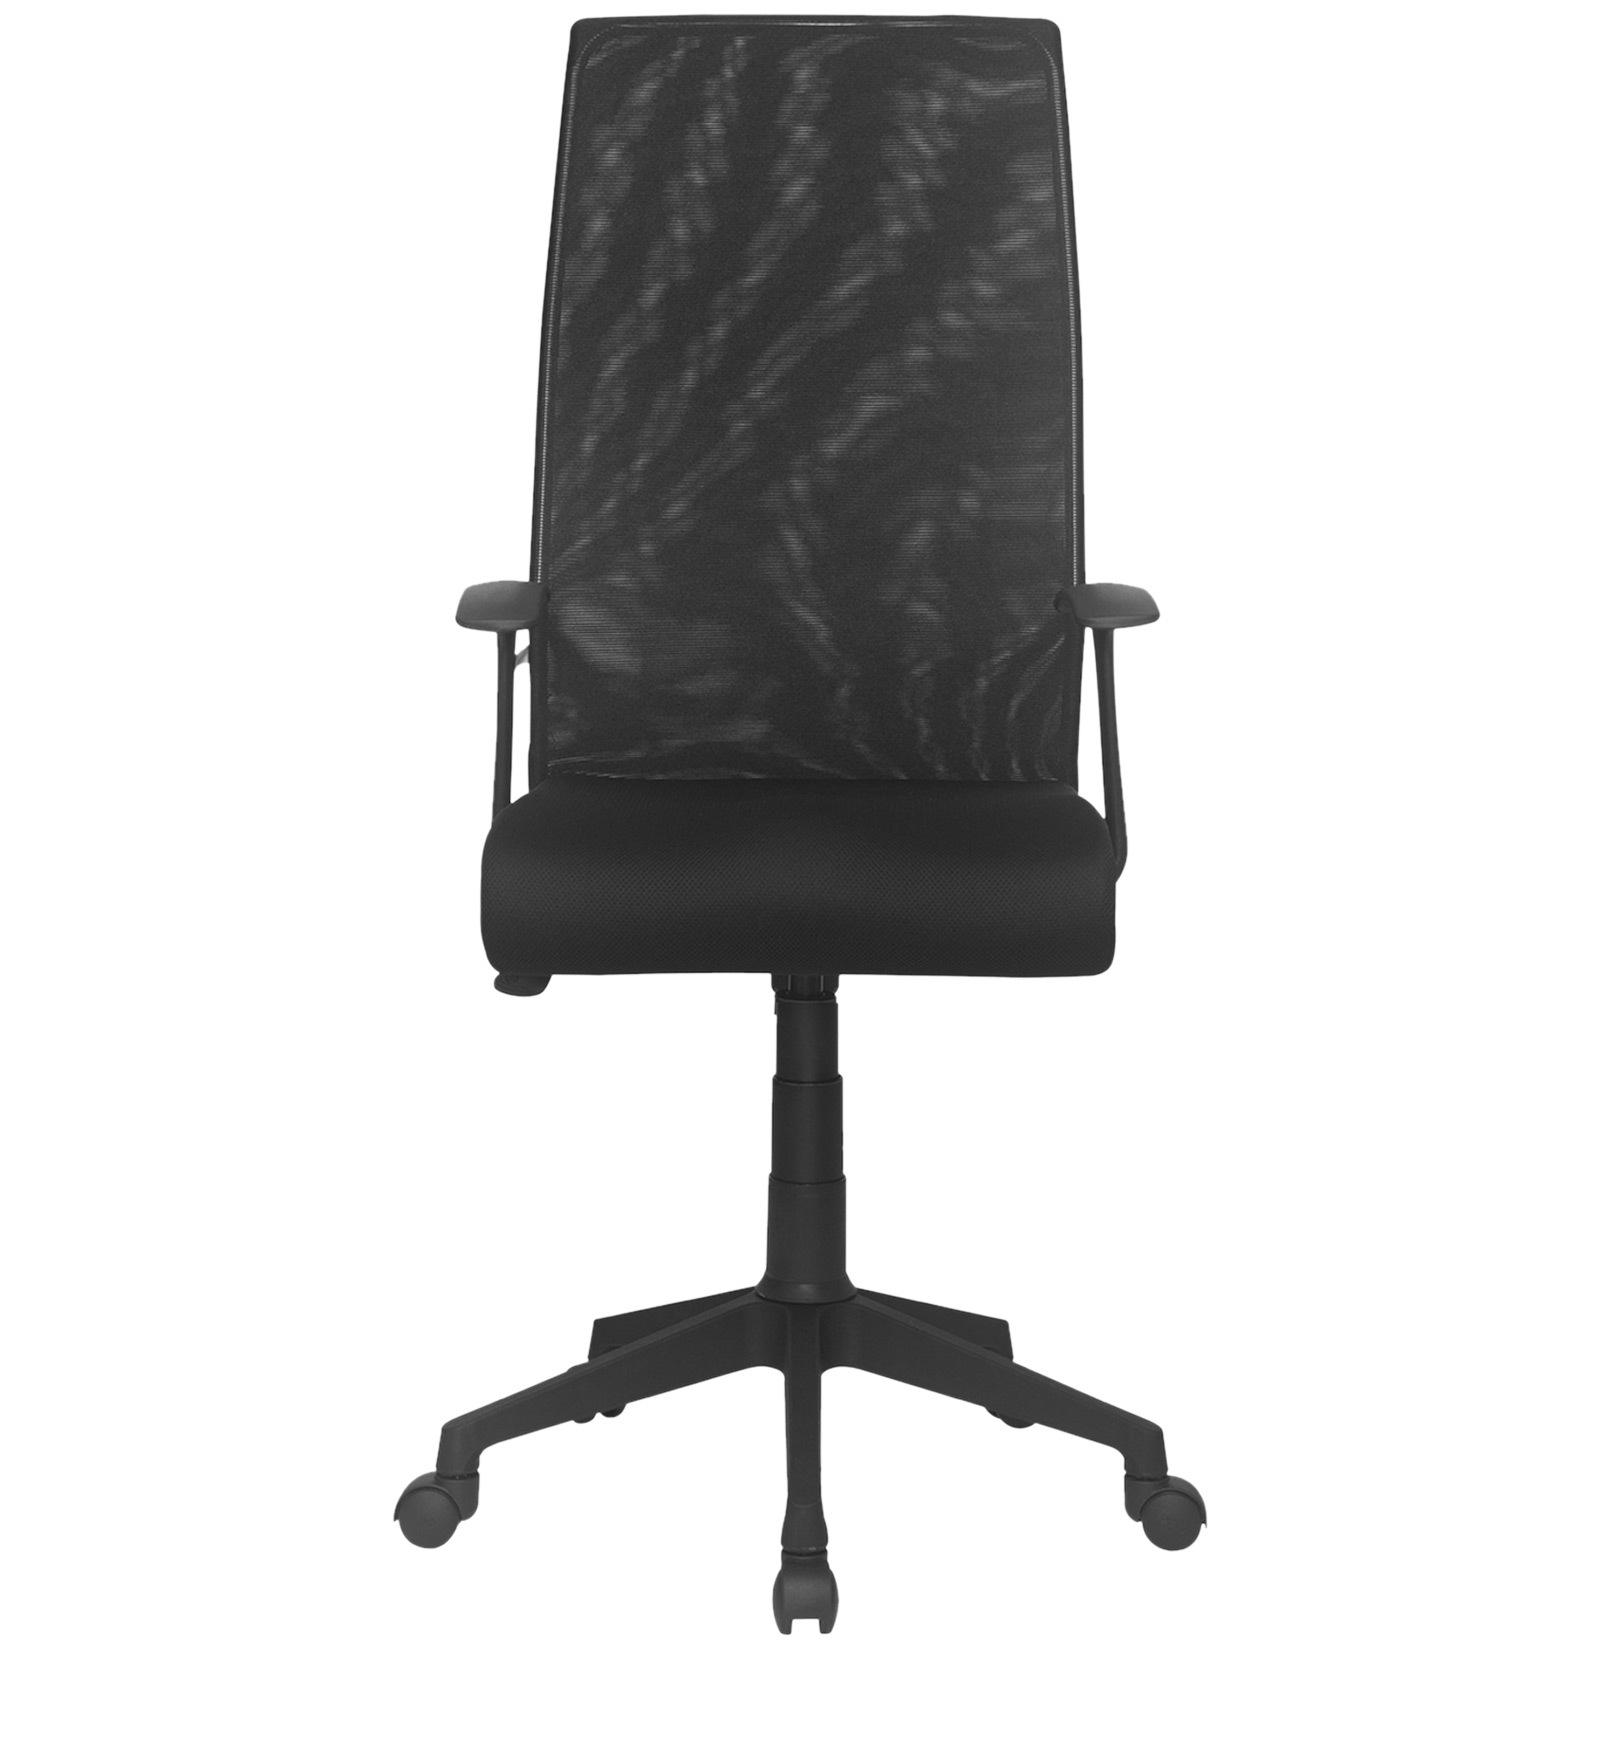Teak Wood Rocking Chair in Walnut Finish by Furniease: (421, 6, 1320, 1703)
